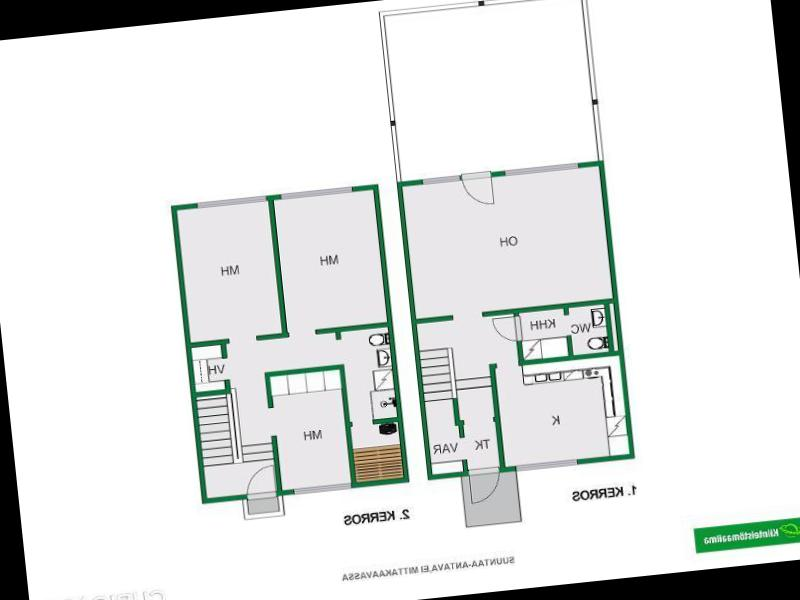door: (464, 462, 507, 509), (242, 462, 280, 502), (456, 172, 497, 208), (489, 312, 526, 345)
window: (498, 158, 586, 182), (274, 183, 360, 205), (511, 453, 585, 476), (192, 194, 270, 213), (288, 478, 355, 499), (418, 173, 466, 191)
